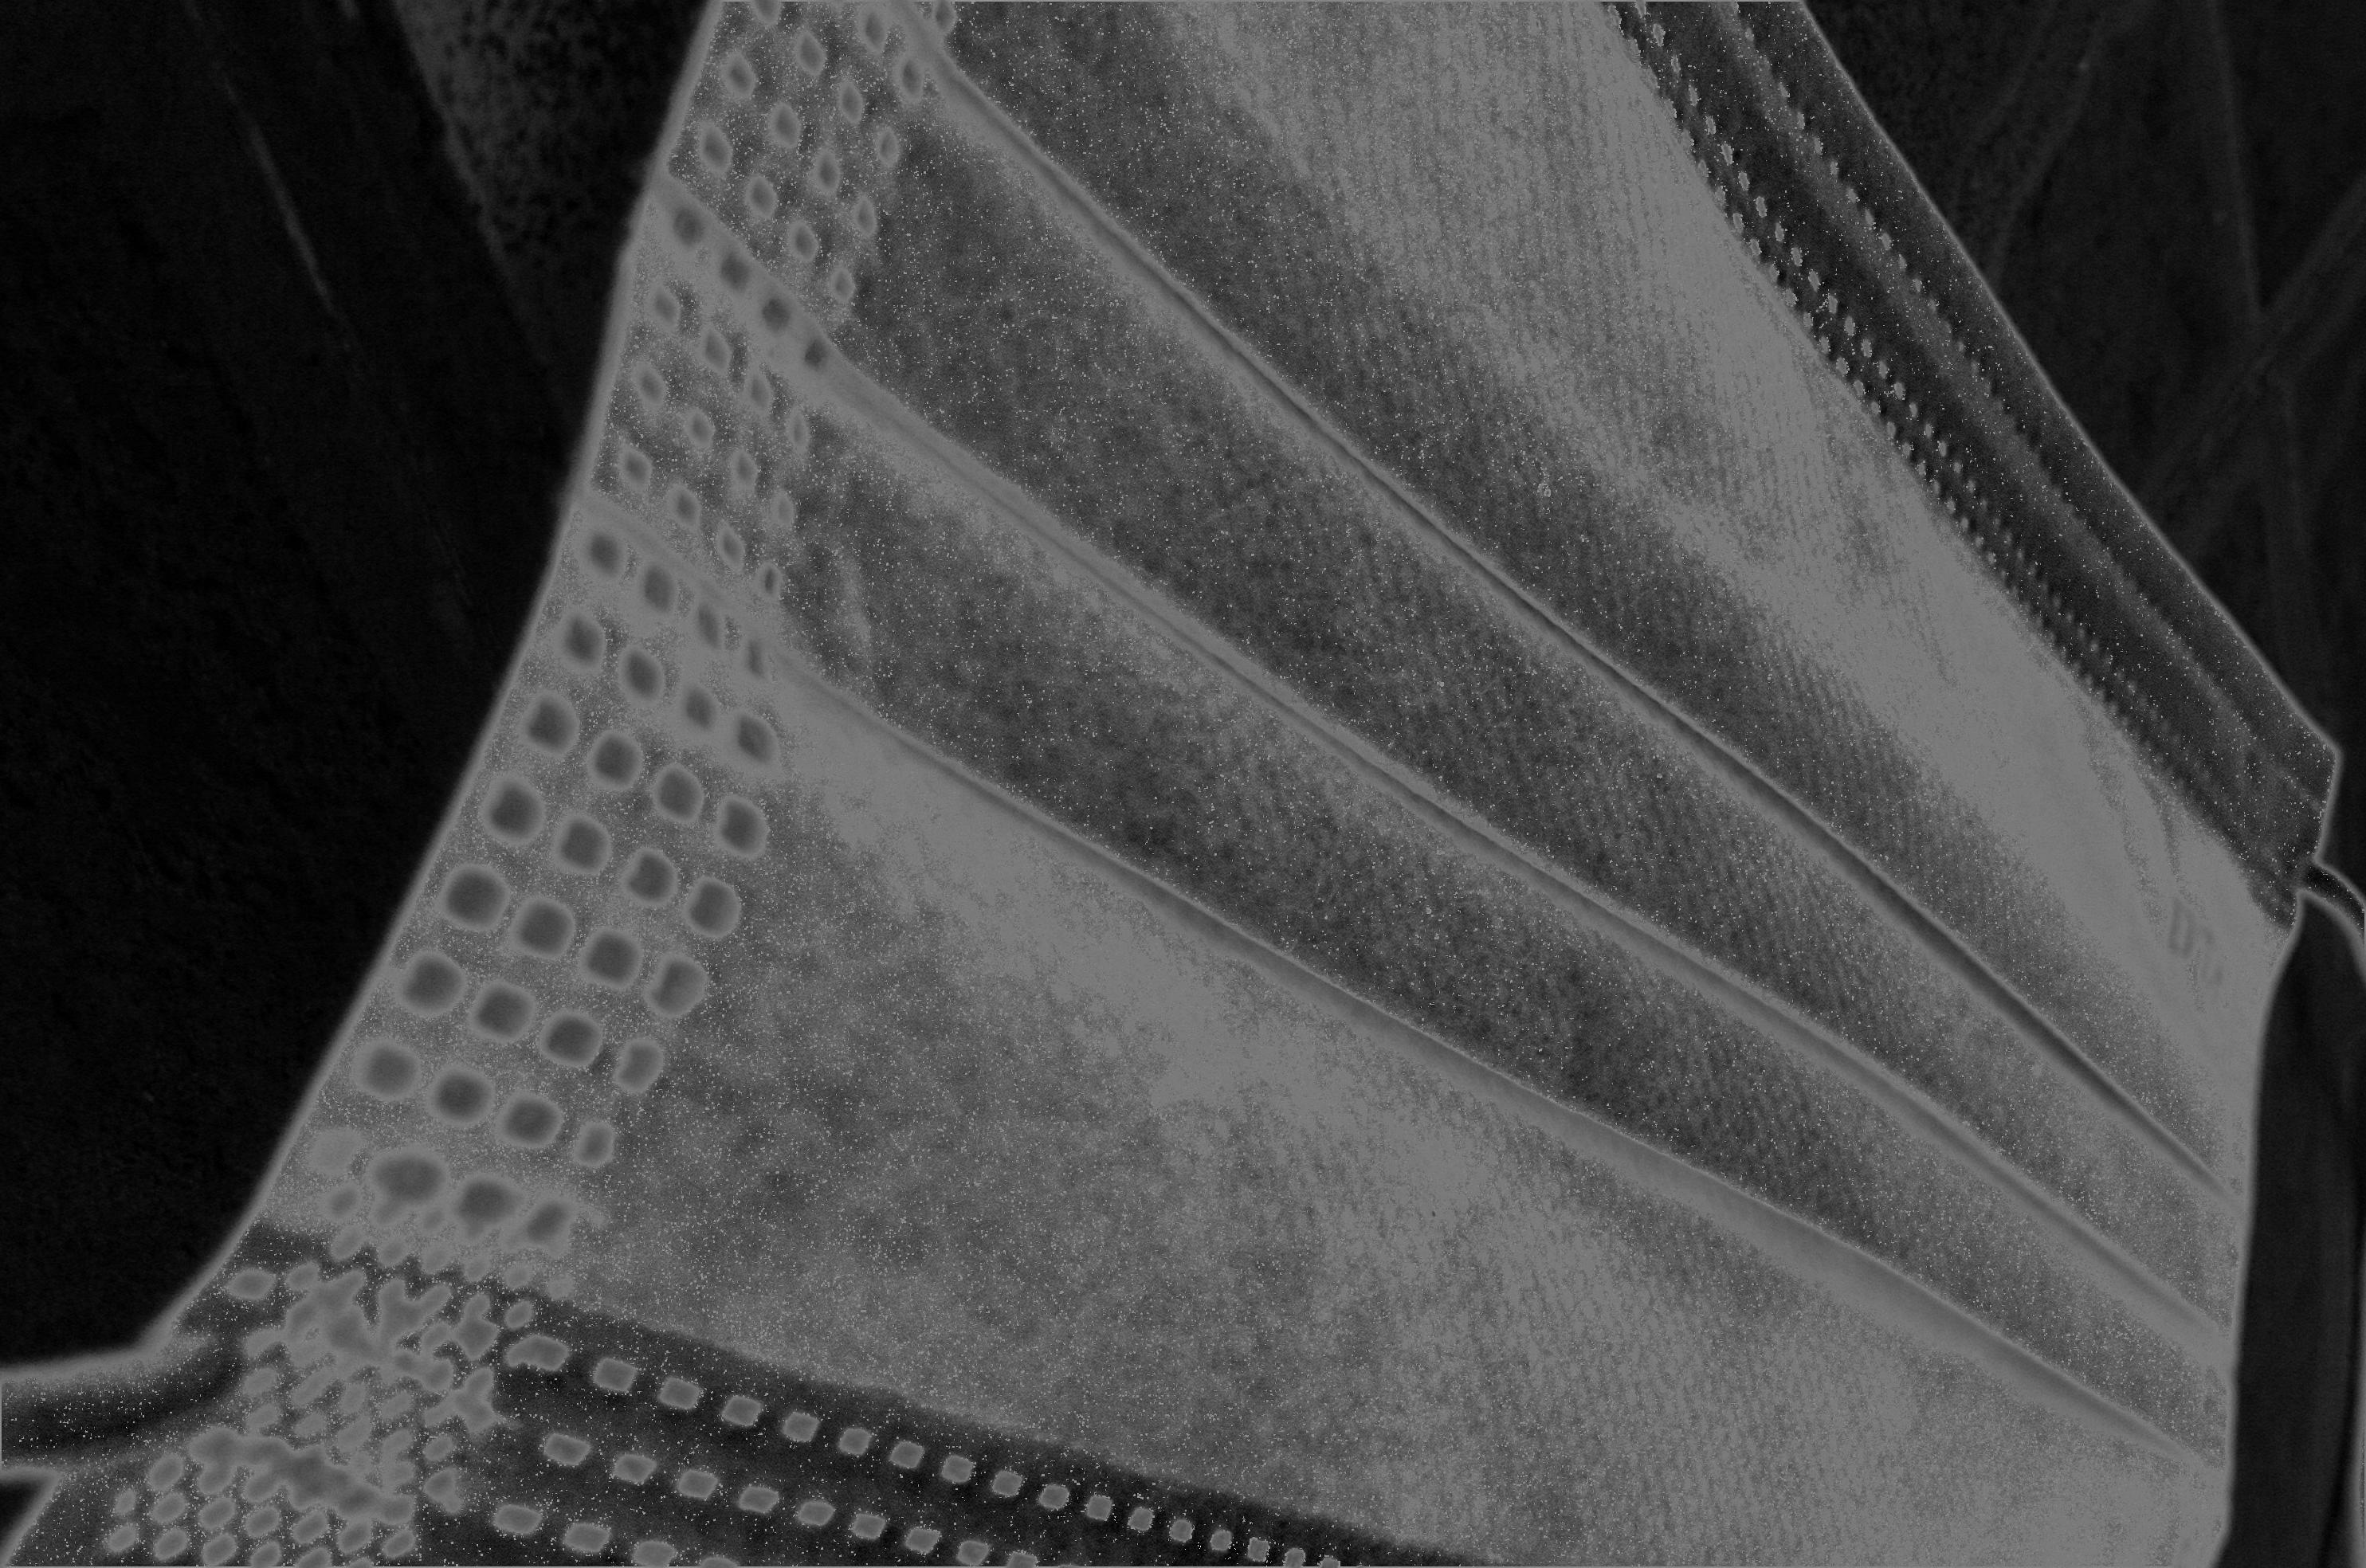High GSM: (850, 116, 2105, 1388)
